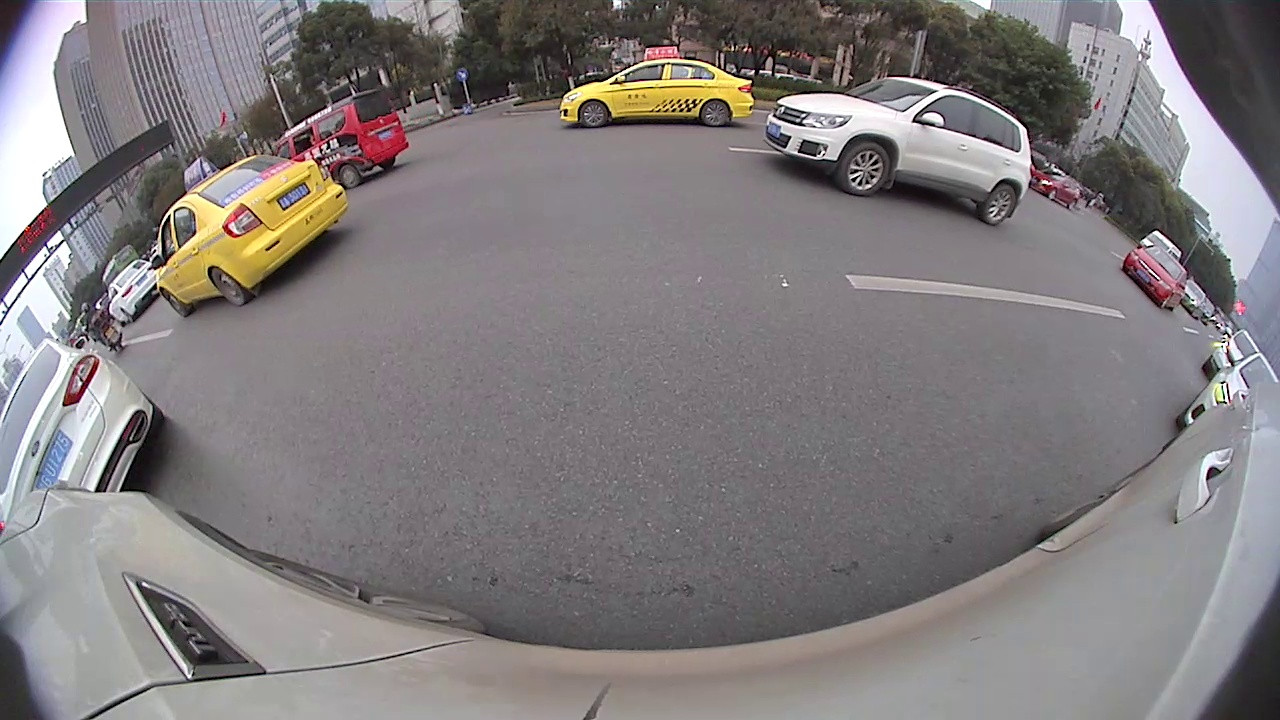car: (768, 75, 1030, 225), (138, 154, 351, 315), (1, 336, 162, 537), (251, 88, 411, 185), (558, 47, 753, 126), (1183, 351, 1278, 434), (1121, 246, 1191, 308), (109, 254, 159, 322)
front: (841, 141, 891, 197), (580, 99, 609, 128), (163, 289, 187, 318)
rear: (980, 184, 1018, 225), (209, 266, 246, 306), (701, 101, 730, 128), (339, 165, 361, 187)
rider: (82, 301, 122, 353)
